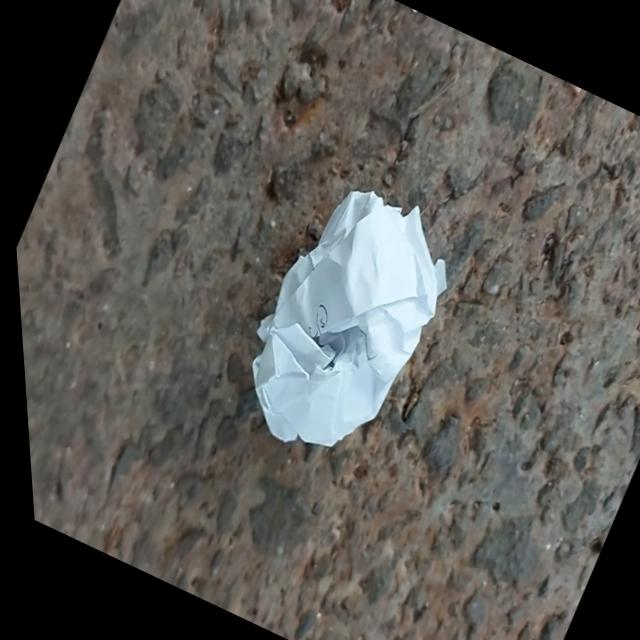paper: (180, 143, 510, 512)
